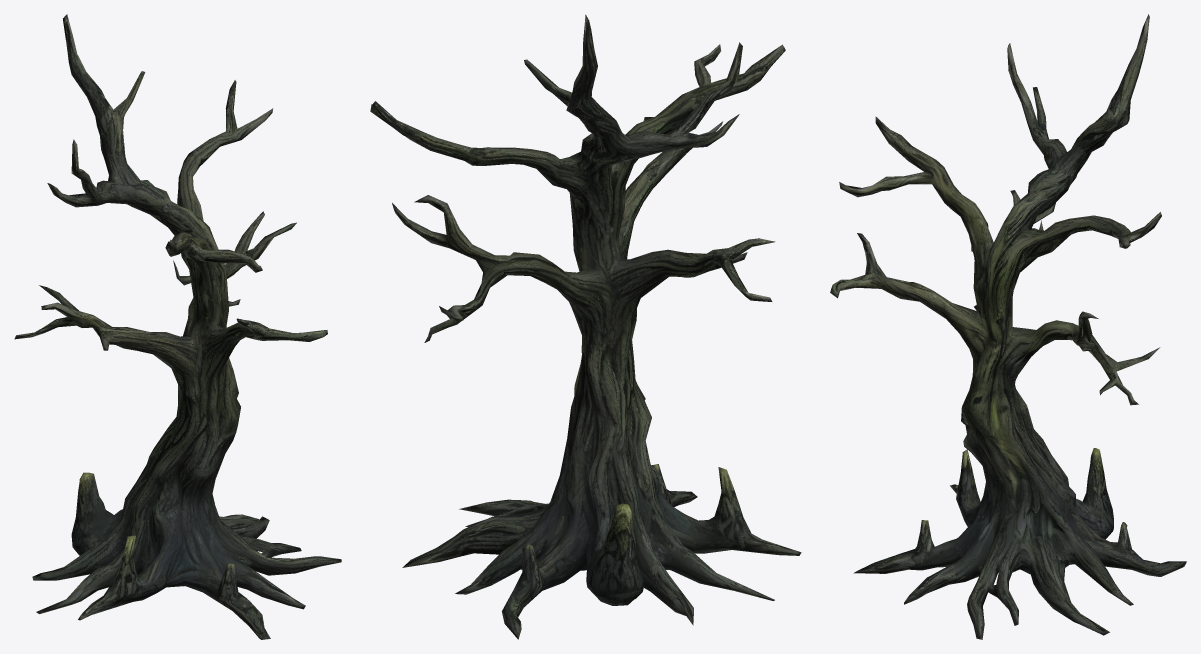
Rendered from Mud_Tree_006.fbx.
3 views of the same model, side by side, from view 1: azimuth 30°, elevation 25°; view 2: azimuth 150°, elevation 25°; view 3: azimuth 270°, elevation 25° (orthographic). The views are drawn at different scales.
Parts seen in each view (by area): view 1: Mud_Tree_006_LOD0; view 2: Mud_Tree_006_LOD0; view 3: Mud_Tree_006_LOD0.
Part boxes in pixels (<box>): Mud_Tree_006_LOD0: <box>14,14,341,639</box>; Mud_Tree_006_LOD0: <box>370,14,801,639</box>; Mud_Tree_006_LOD0: <box>830,14,1186,639</box>.
Size of what is drawn, in the model's own units: 1201 by 2012 by 1217.
1 material, 1 textured.
